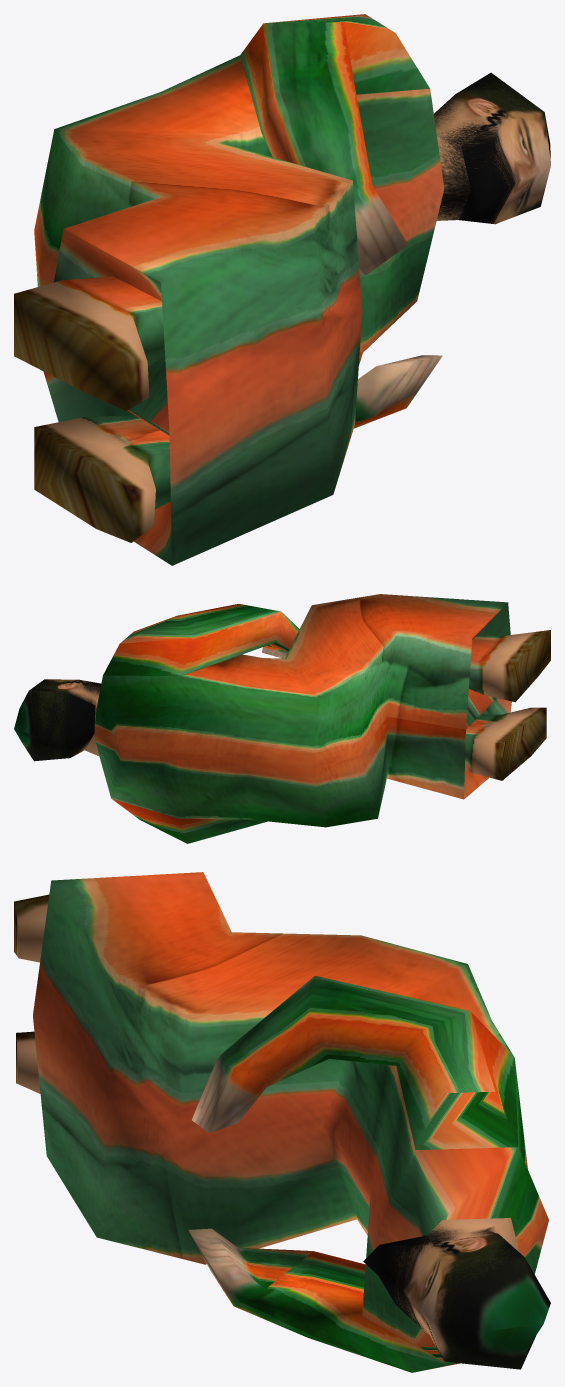
Rendered from man2_22.fbx.
The picture shows the model from 3 angles, top to bottom: view 1: azimuth 30°, elevation 25°; view 2: azimuth 150°, elevation 25°; view 3: azimuth 270°, elevation 25°; orthographic projection. The views are drawn at different scales.
Visible parts, largest first — view 1: man2_22; view 2: man2_22; view 3: man2_22.
Boxes of the visible parts, left/top/right/bottom form: man2_22: left=14, top=14, right=550, bottom=565; man2_22: left=14, top=594, right=550, bottom=843; man2_22: left=14, top=872, right=550, bottom=1372.
Size of the model in its own units: 26.99 by 13.44 by 18.96.
